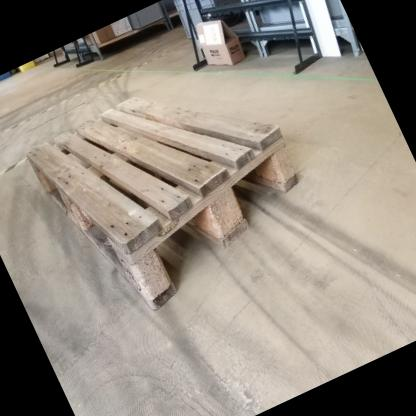BoxFace: (24, 89, 305, 319)
